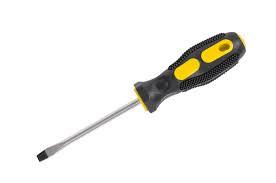screwdriver: (36, 30, 246, 161)
